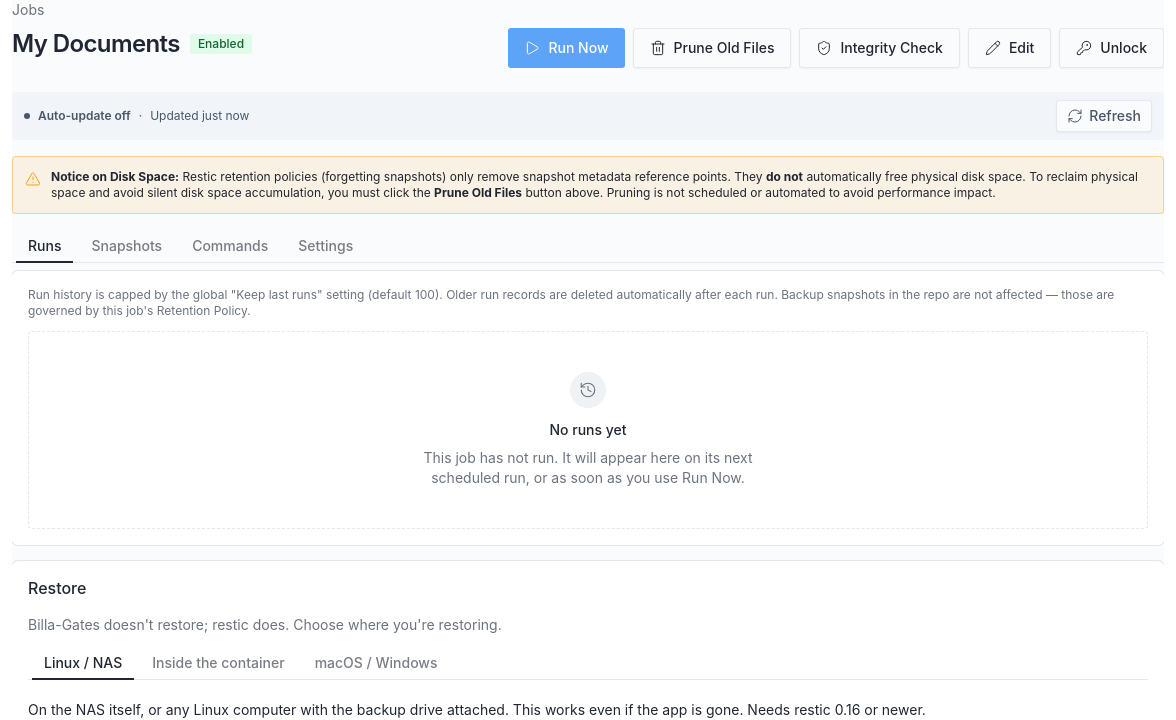
JobDetail › commands tab › says a step does not run instead of showing a command it will not issue
Click the tab "Commands". click: (230, 246)
box: [179,234,281,258]
(page scrolled)
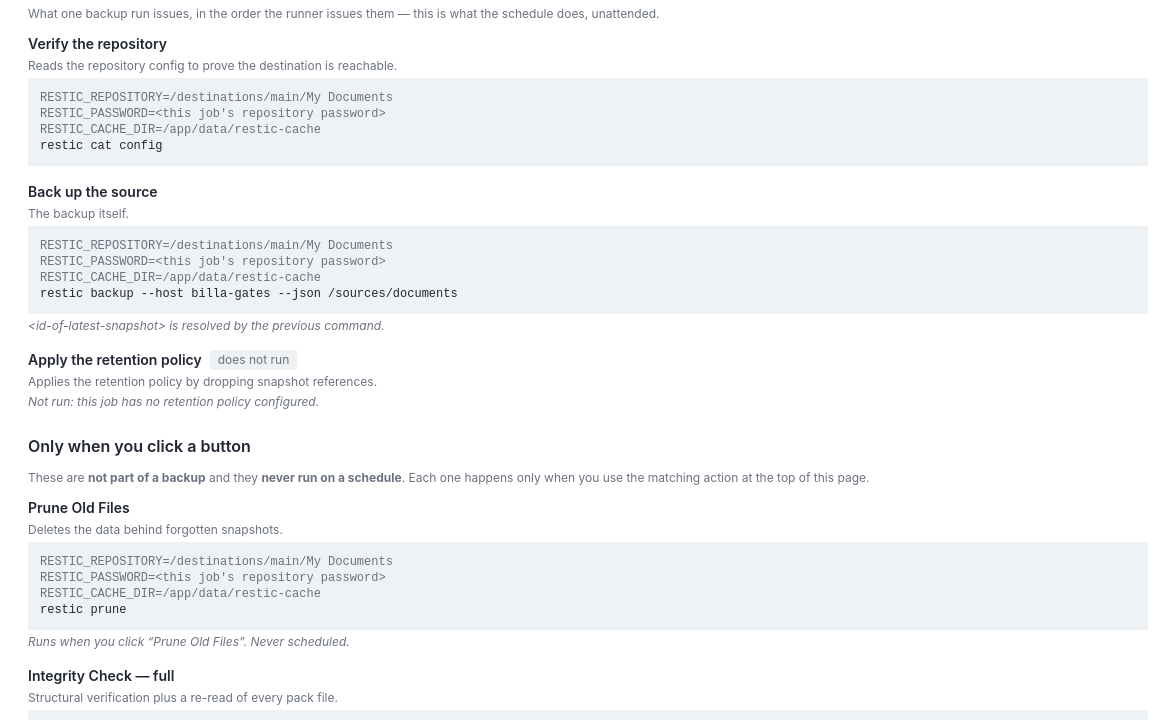
Check: the heading "Apply the retention policy" is shown, box [28,350,202,370]
Check: the text "Not run: this job has no retention policy configured." is shown, box [28,394,319,409]
Check: the text "does not run" is shown, box [210,350,297,370]
